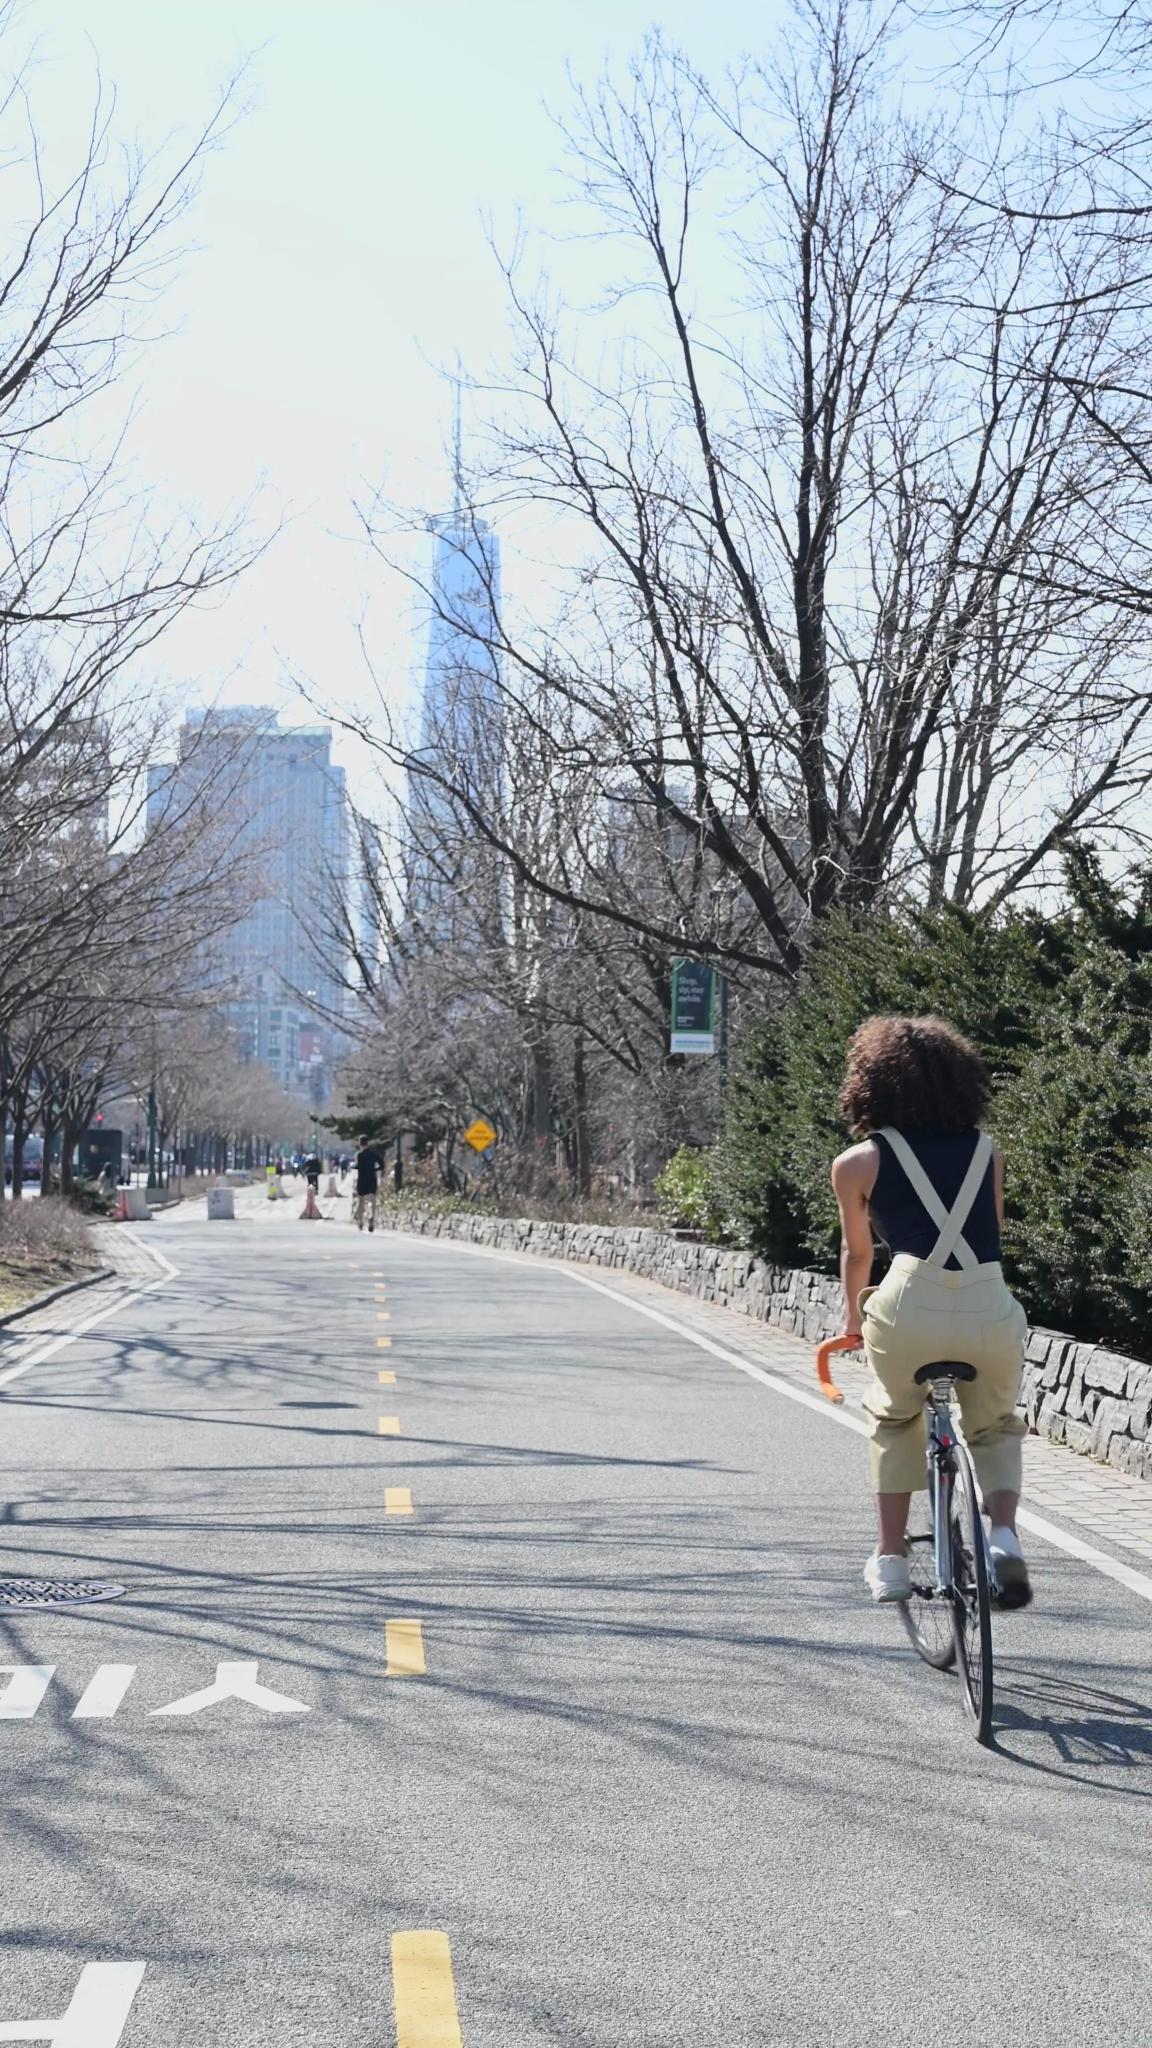cyclist: (765, 992, 1097, 1770)
